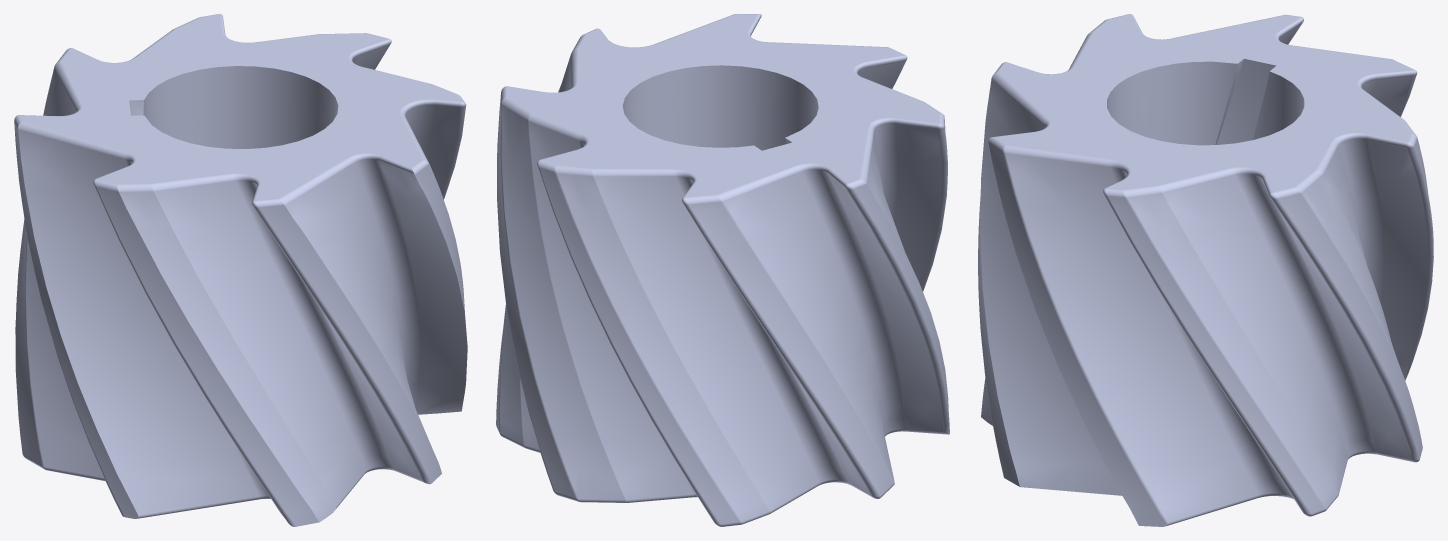
The model's file is cutter.fbx.
The picture shows the model from 3 angles, left to right: view 1: azimuth 30°, elevation 25°; view 2: azimuth 150°, elevation 25°; view 3: azimuth 270°, elevation 25°; orthographic projection.
Parts seen in each view (by area): view 1: stitch_result_stitch all; view 2: stitch_result_stitch all; view 3: stitch_result_stitch all.
Boxes of the visible parts, bbox=[...] form: stitch_result_stitch all: bbox=[14, 14, 467, 526]; stitch_result_stitch all: bbox=[496, 14, 949, 526]; stitch_result_stitch all: bbox=[978, 14, 1433, 526].
Size of the model in its own units: 16.67 by 13.27 by 16.56.
